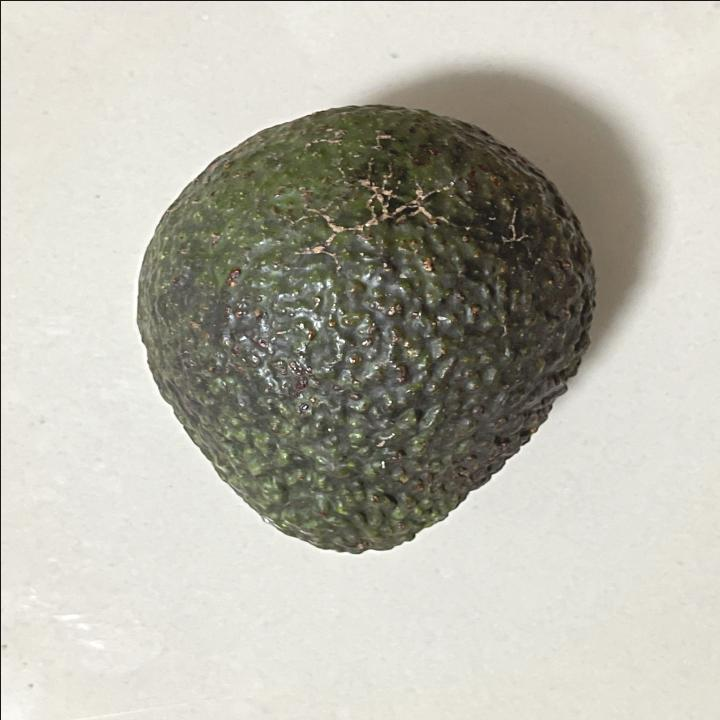Level1: (118, 87, 608, 570)
